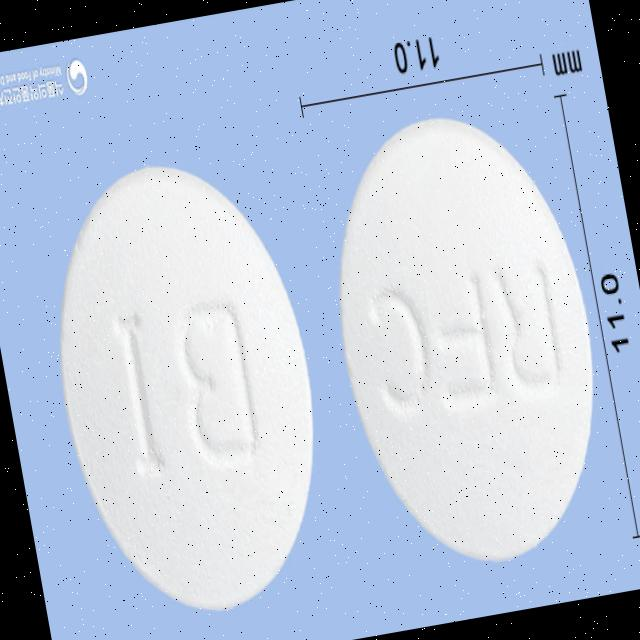Rofsin Tab: (27, 145, 346, 632), (307, 96, 626, 582)
